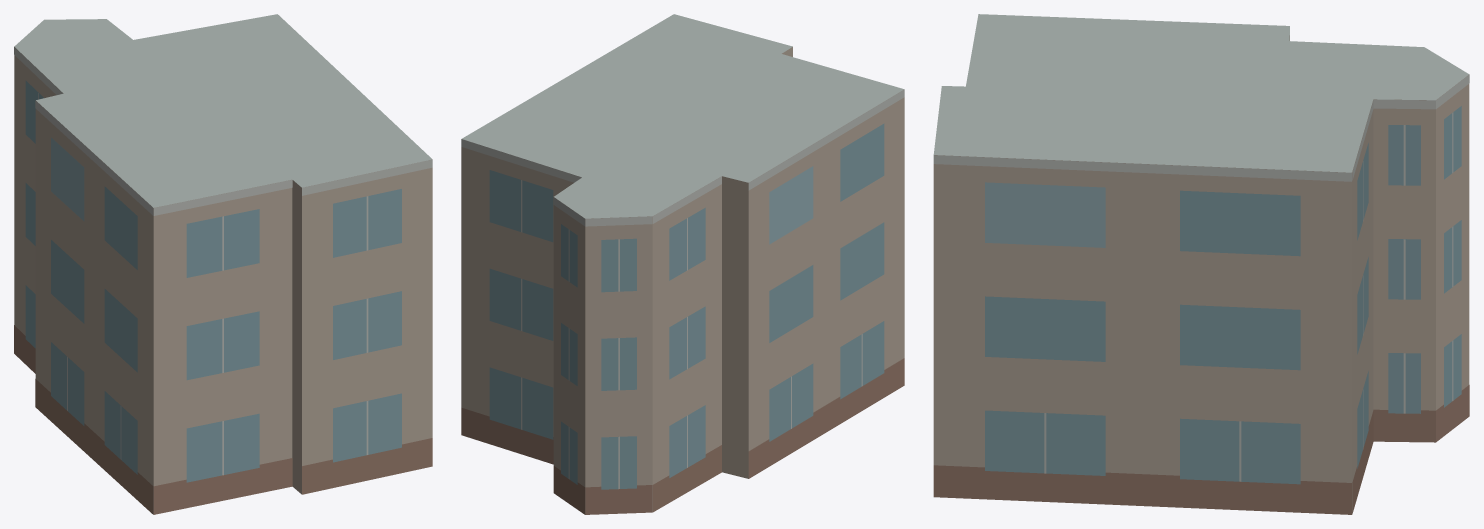
The model's file is survey-upis-32669334.glb.
The picture shows the model from 3 angles, left to right: view 1: azimuth 30°, elevation 25°; view 2: azimuth 150°, elevation 25°; view 3: azimuth 270°, elevation 25°; orthographic projection. The views are drawn at different scales.
Visible parts, largest first — view 1: survey-upis-32669334.tmp; view 2: survey-upis-32669334.tmp; view 3: survey-upis-32669334.tmp.
Part boxes in pixels (x1,y1,x2,y2): survey-upis-32669334.tmp: (14,14,432,514); survey-upis-32669334.tmp: (461,14,904,514); survey-upis-32669334.tmp: (933,14,1469,514).
Size of the model in its own units: 9.11 by 9.15 by 13.
